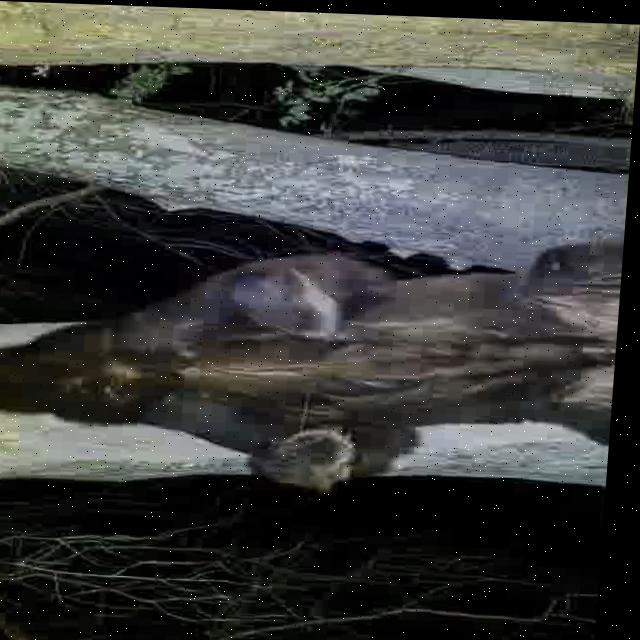bear face: (0, 221, 627, 496)
